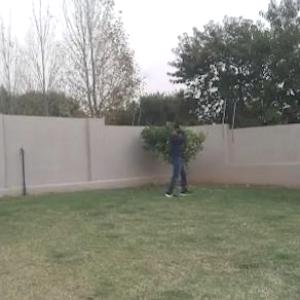follow: (168, 118, 189, 206)
